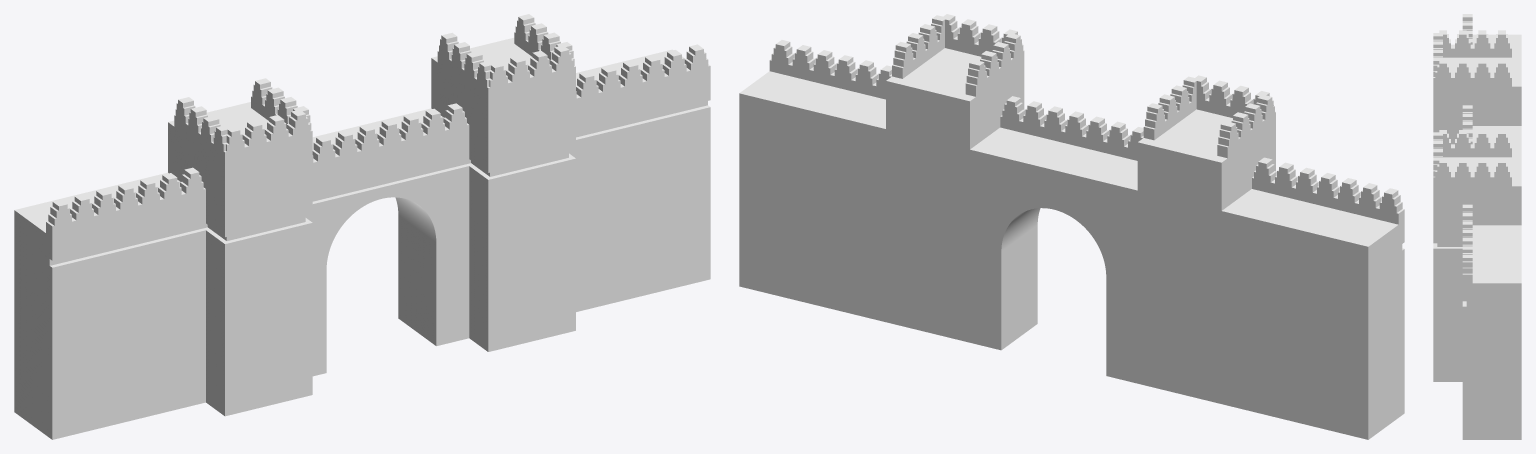
Rendered from wall.gltf.
3 renders of one model, left to right at view 1: azimuth 30°, elevation 25°; view 2: azimuth 150°, elevation 25°; view 3: azimuth 270°, elevation 25°, orthographic. The views are drawn at different scales.
Visible parts, largest first — view 1: wall; view 2: wall; view 3: wall.
Part boxes in pixels (left/top/right/bottom): wall: left=14, top=14, right=710, bottom=439; wall: left=739, top=14, right=1404, bottom=439; wall: left=1433, top=14, right=1521, bottom=439.
Bounding box in the file's own units: 30 × 12.3 × 4.5.
Materials: 1 (1 with a texture image).
